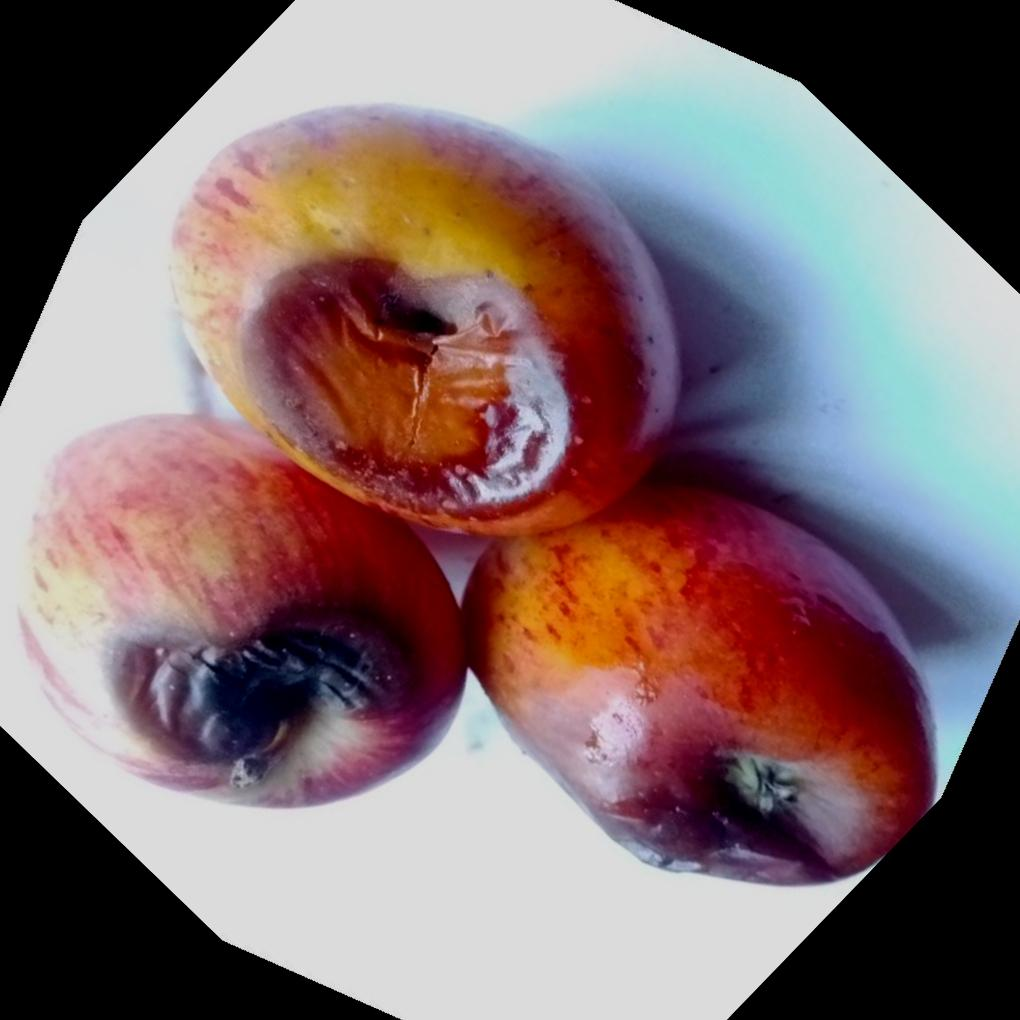FreshOrange: (6, 100, 953, 888)
